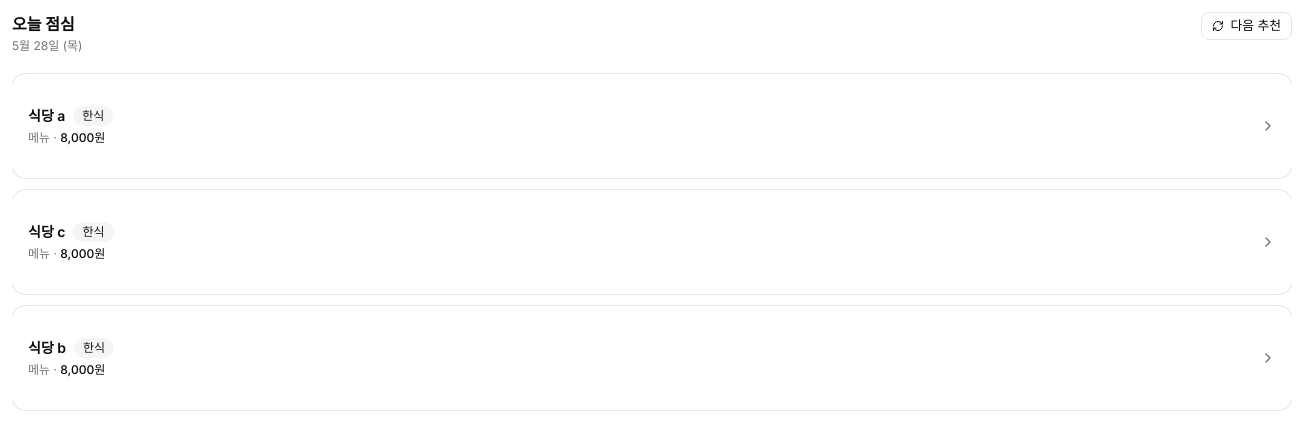
Test: RecommendationScreen › '다음 추천' 클릭 → 이전 카드와 다른 식당 표시
Click the button "다음 추천": (1247, 26) [1202,12,1292,40]
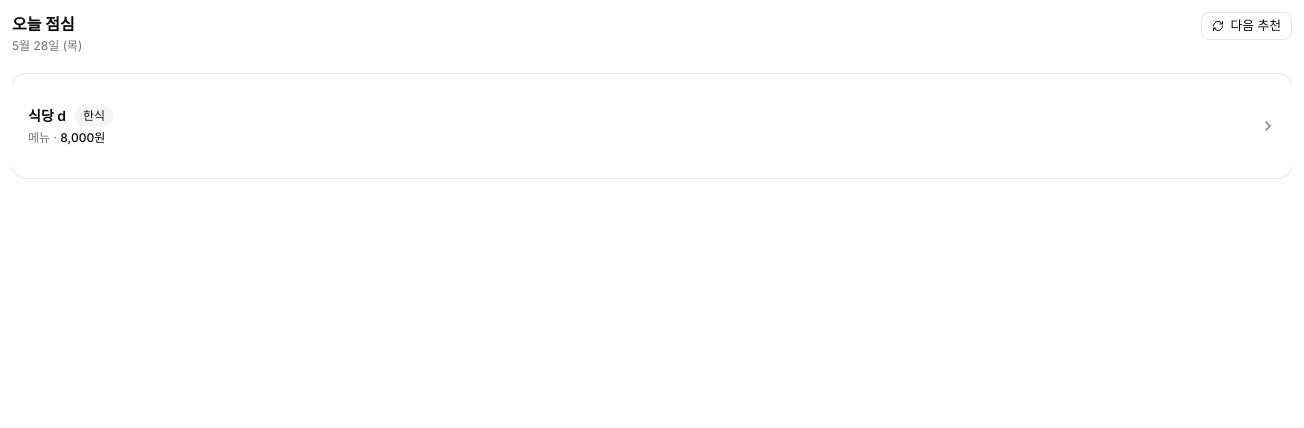
Now the link "식당 a" is gone
Now the link "식당 b" is gone
Now the link "식당 c" is gone
